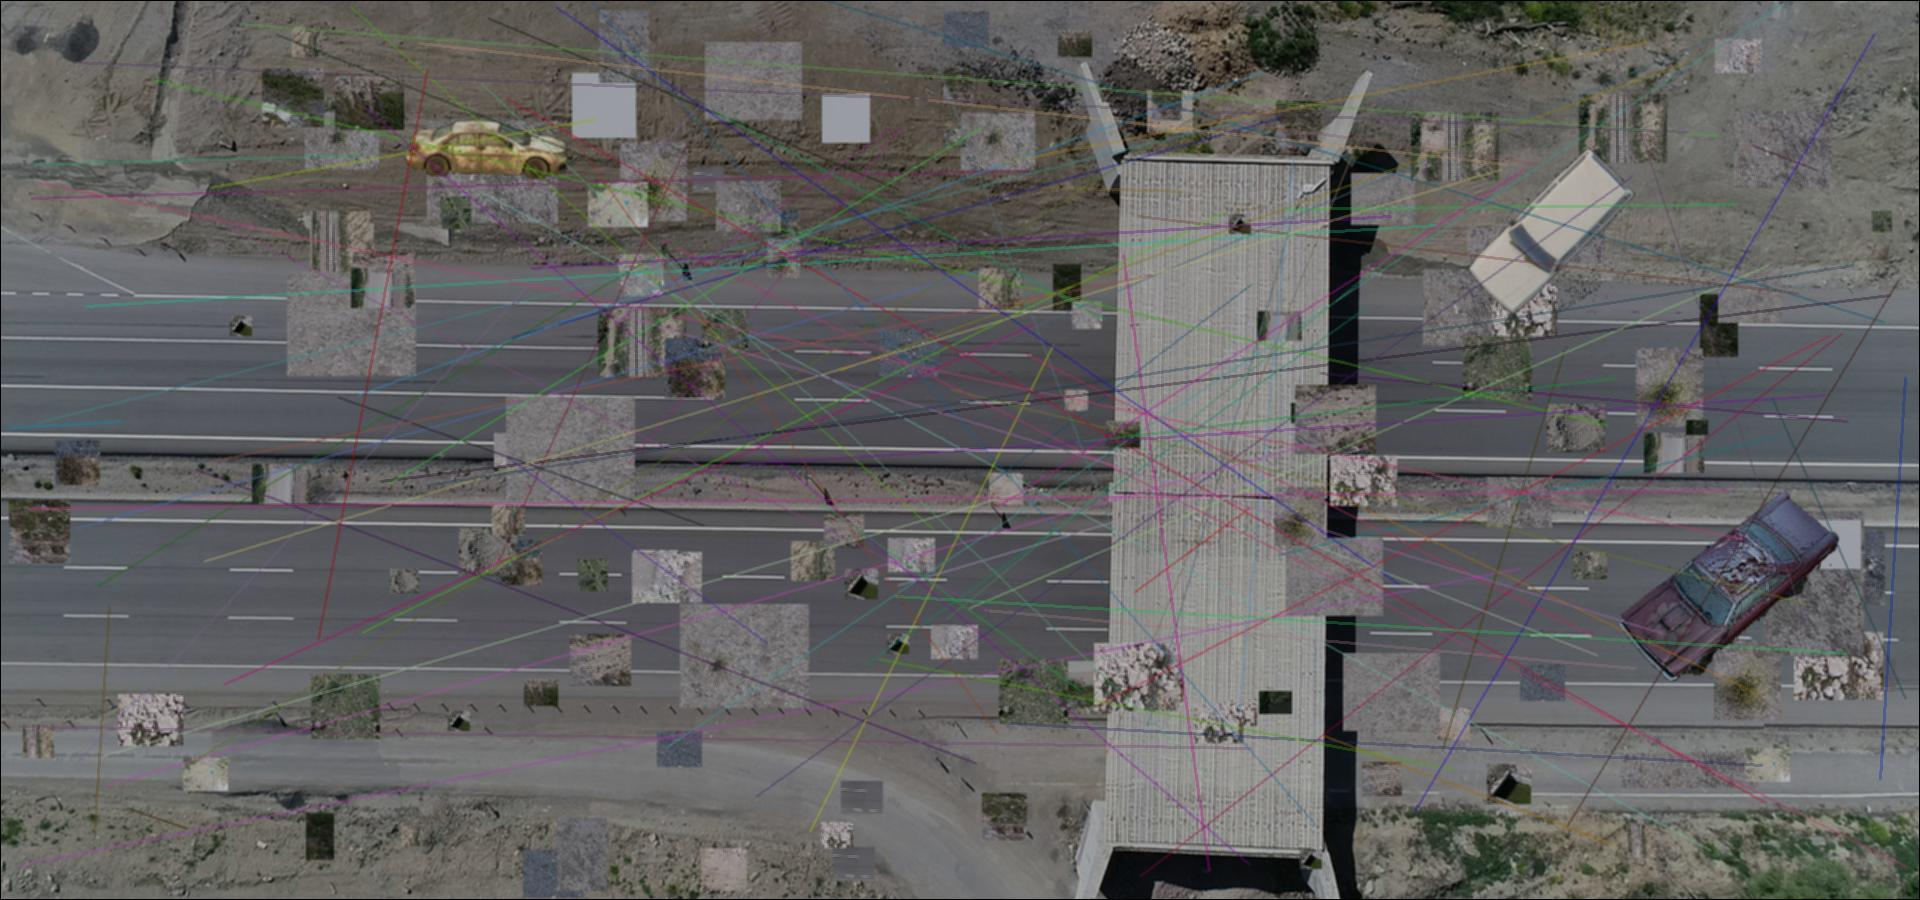arac: (1620, 486, 1840, 681), (1458, 148, 1637, 313), (402, 119, 574, 179)
